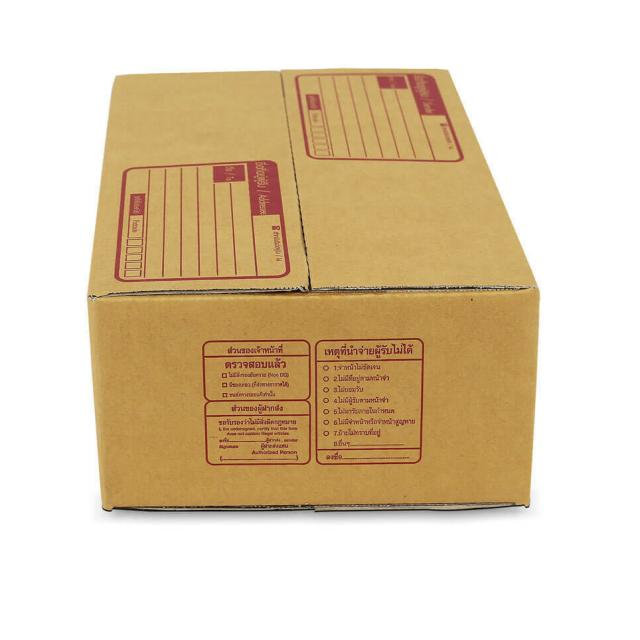box: (72, 38, 562, 538)
